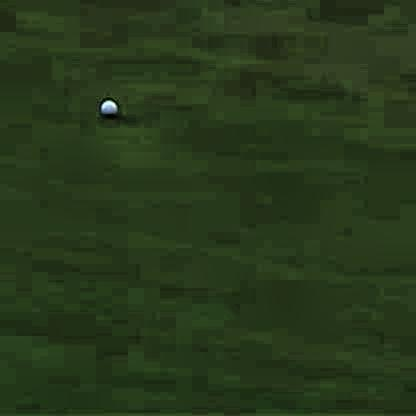golfball: (96, 94, 115, 116)
